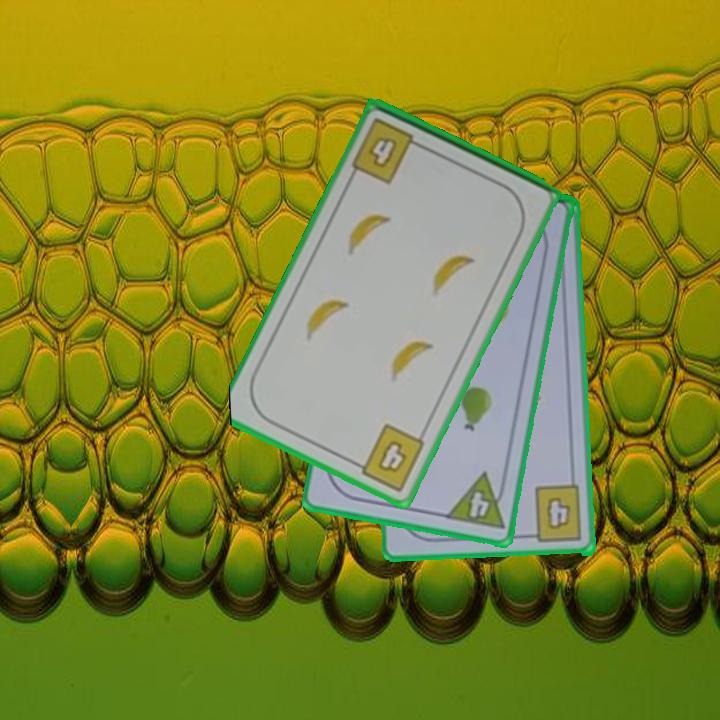4b: (349, 420, 428, 495), (347, 114, 428, 187), (523, 483, 585, 546)
4p: (442, 469, 511, 532)
